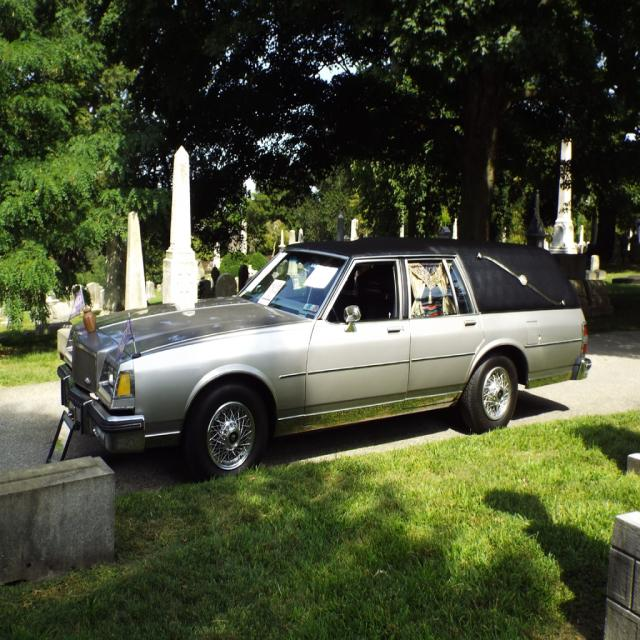car: (60, 237, 593, 481)
